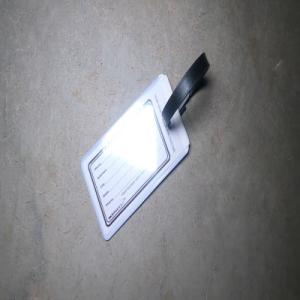LuggageTag: (79, 49, 211, 242)
